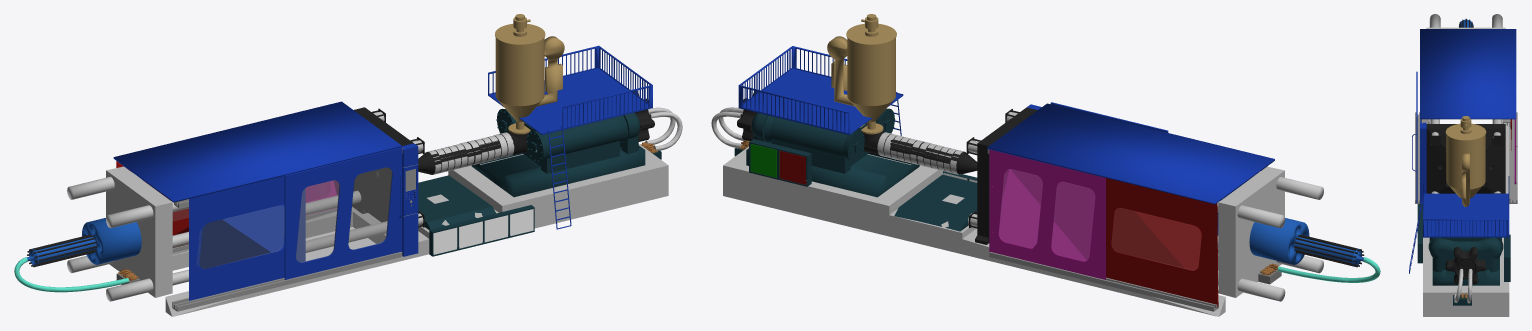
The model's file is 注朔机A.obj.
The picture shows the model from 3 angles, left to right: view 1: azimuth 30°, elevation 25°; view 2: azimuth 150°, elevation 25°; view 3: azimuth 270°, elevation 25°; orthographic projection. The views are drawn at different scales.
Parts seen in each view (by area): view 1: Box001, injection___injection___backdoor___Copy_1_surface1_80___Surface_, injection___injection___Base_1_surface1_84___Surface_84, injection___injection___door_1_surface3_1___Imported_Body, injection___injection___back_platen_cover_1_surface18_23___Surfa, injection___injection___Taris_1_surface1_49___Surface_49, injection___injection___injection_cylinder_1_surface1_19___Surfa, injection___injection___backdoor___Copy_1_surface2_4___Imported_, object 105, object 116, injection___injection___door_1_surface2_5___Imported_Body, injection___injection___door_1_surface1_6___Imported_Body (+23 smaller); view 2: Box001, injection___injection___door_4_surface3_5___Surface_5, injection___injection___backdoor___Copy_4_surface1_79___Surface_, injection___injection___Base_1_surface1_84___Surface_84, injection___injection___back_platen_cover_1_surface18_23___Surfa, injection___injection___Taris_1_surface1_49___Surface_49, injection___injection___backdoor___Copy_4_surface2_78___Surface_, injection___injection___injection_cylinder_1_surface1_19___Surfa, object 116, injection___injection___motor_top_1_surface1_56___Surface_56, injection___injection___door_4_surface2_3___Imported_Body, injection___injection___door_4_surface1_86___Surface_86 (+14 smaller); view 3: Box001, injection___injection___Taris_1_surface1_49___Surface_49, injection___injection___Base_1_surface1_84___Surface_84, injection___injection___fixed_platen_1_surface1_103___Surface_10, object 116, injection___injection___Injection_piston_1_surface2_87___Surface, injection___injection___Injection_piston_1_surface1_88___Surface, object 105, object 109, injection___injection___Hopper_1_surface2_92___Surface_92___1, injection___injection___door_angle_8_surface1_52___Surface_52, injection___injection___Controler_1_surface1_83___Surface_83 (+16 smaller).
Boxes of the visible parts, box(x1,y1,x2,y2) form: Box001: box(113, 101, 401, 202); injection___injection___backdoor___Copy_1_surface1_80___Surface_: box(189, 175, 305, 300); injection___injection___Base_1_surface1_84___Surface_84: box(165, 144, 668, 316); injection___injection___door_1_surface3_1___Imported_Body: box(284, 147, 402, 279); injection___injection___back_platen_cover_1_surface18_23___Surfa: box(106, 166, 172, 297); injection___injection___Taris_1_surface1_49___Surface_49: box(488, 68, 652, 134); injection___injection___injection_cylinder_1_surface1_19___Surfa: box(496, 108, 628, 173); injection___injection___backdoor___Copy_1_surface2_4___Imported_: box(197, 205, 284, 268); object 105: box(471, 145, 645, 197); object 116: box(495, 38, 544, 106); injection___injection___door_1_surface2_5___Imported_Body: box(348, 167, 392, 249); injection___injection___door_1_surface1_6___Imported_Body: box(296, 180, 339, 262); Box001: box(987, 103, 1274, 204); injection___injection___door_4_surface3_5___Surface_5: box(989, 149, 1105, 279); injection___injection___backdoor___Copy_4_surface1_79___Surface_: box(1106, 178, 1218, 307); injection___injection___Base_1_surface1_84___Surface_84: box(723, 146, 1225, 316); injection___injection___back_platen_cover_1_surface18_23___Surfa: box(1218, 166, 1284, 297); injection___injection___Taris_1_surface1_49___Surface_49: box(739, 68, 903, 134); injection___injection___backdoor___Copy_4_surface2_78___Surface_: box(1112, 208, 1201, 270); injection___injection___injection_cylinder_1_surface1_19___Surfa: box(763, 108, 895, 173); object 116: box(847, 38, 895, 105); injection___injection___motor_top_1_surface1_56___Surface_56: box(894, 174, 977, 231); injection___injection___door_4_surface2_3___Imported_Body: box(999, 169, 1042, 247); injection___injection___door_4_surface1_86___Surface_86: box(1051, 182, 1094, 260); Box001: box(1420, 29, 1516, 119); injection___injection___Taris_1_surface1_49___Surface_49: box(1423, 193, 1508, 237); injection___injection___Base_1_surface1_84___Surface_84: box(1423, 119, 1509, 316); injection___injection___fixed_platen_1_surface1_103___Surface_10: box(1426, 124, 1505, 193); object 116: box(1446, 135, 1485, 189); injection___injection___Injection_piston_1_surface2_87___Surface: box(1429, 237, 1501, 272); injection___injection___Injection_piston_1_surface1_88___Surface: box(1445, 246, 1486, 284); object 105: box(1432, 257, 1499, 285); object 109: box(1423, 176, 1509, 236); injection___injection___Hopper_1_surface2_92___Surface_92___1: box(1445, 123, 1486, 198); injection___injection___door_angle_8_surface1_52___Surface_52: box(1509, 112, 1517, 203); injection___injection___Controler_1_surface1_83___Surface_83: box(1419, 122, 1426, 203).
Bounding box in the file's own units: 1092 × 298 × 193.
